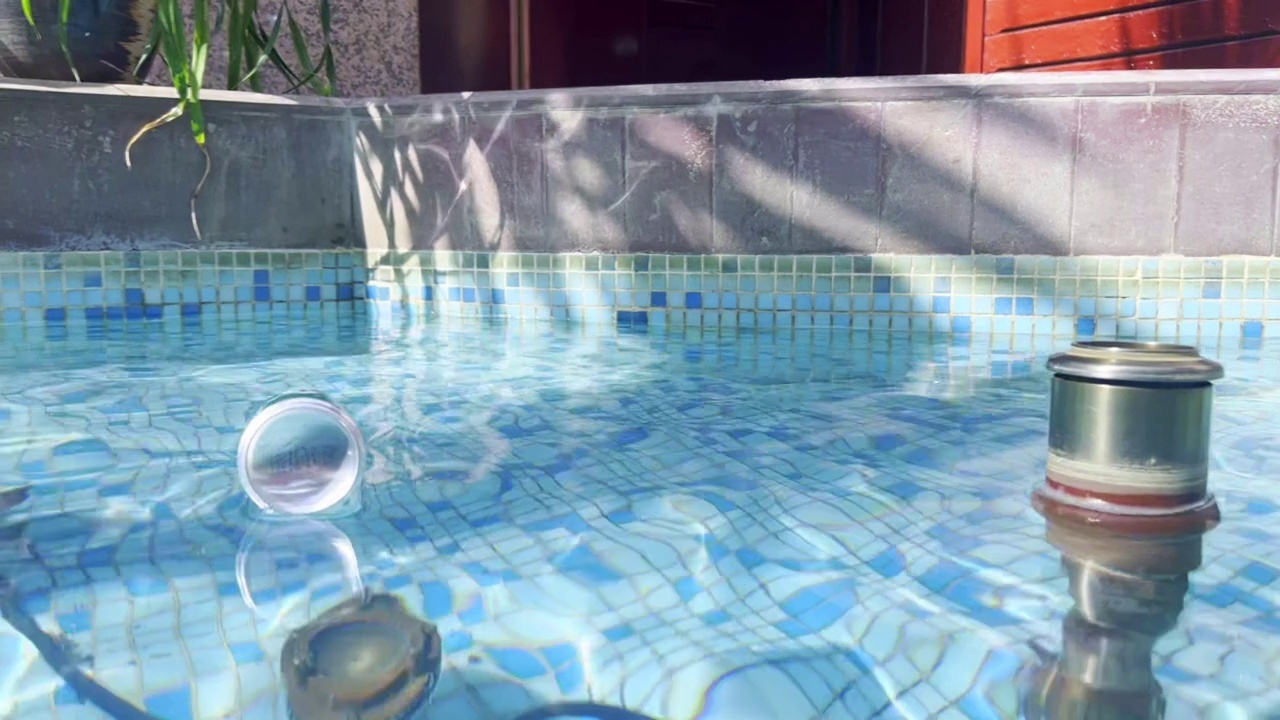debris: (235, 380, 368, 523)
